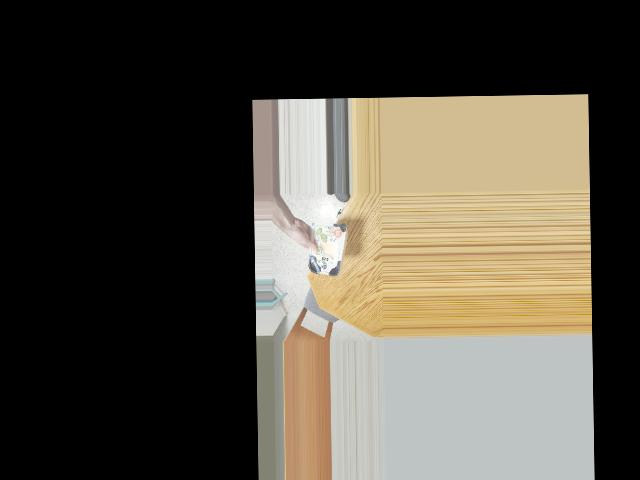cheese: (309, 226, 341, 275)
